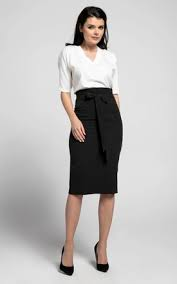F_tailored skirt: (64, 85, 129, 200)
